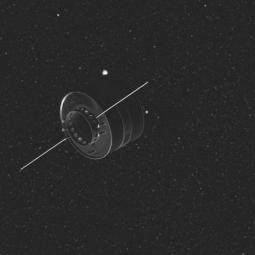double_start: (40, 62, 158, 171)
